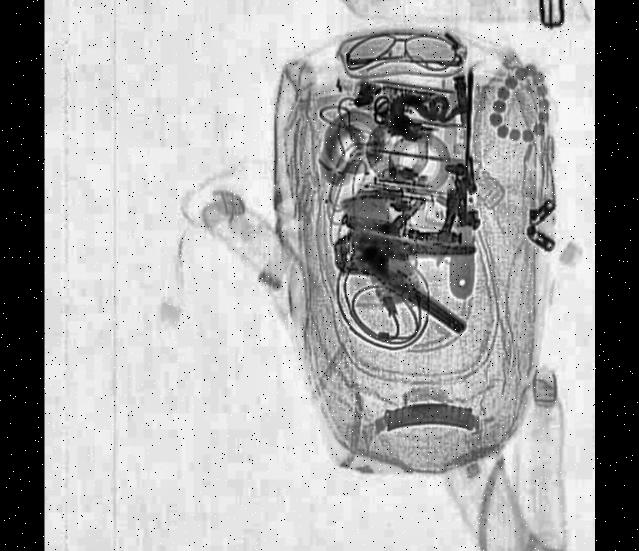Pliers: (323, 211, 477, 335)
